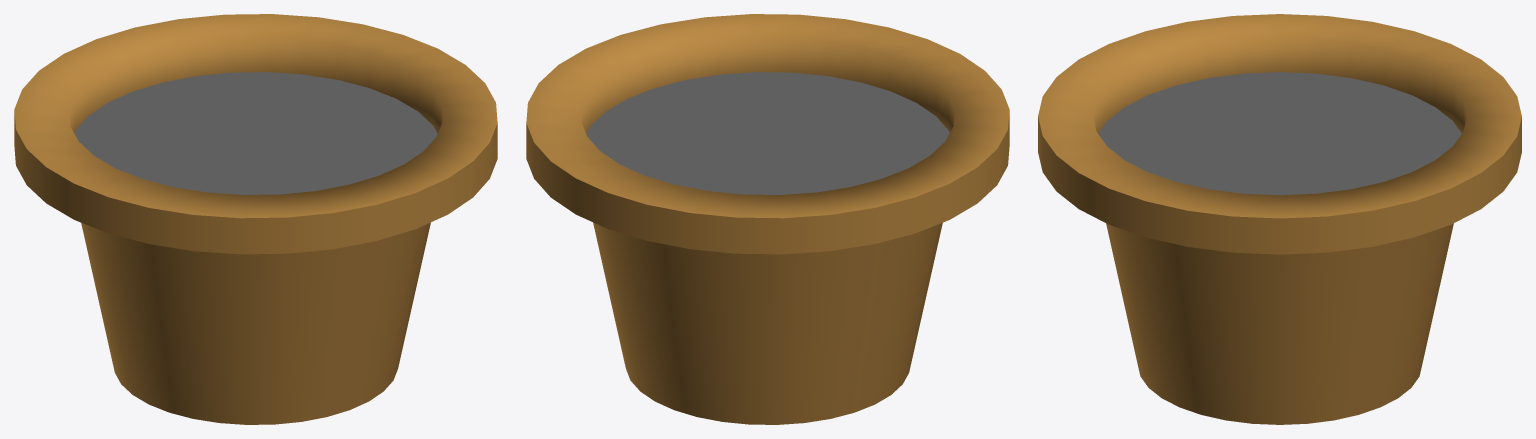
Rendered from Mplants1.fbx.
The picture shows the model from 3 angles, left to right: view 1: azimuth 30°, elevation 25°; view 2: azimuth 150°, elevation 25°; view 3: azimuth 270°, elevation 25°; orthographic projection.
Visible parts, largest first — view 1: Mplants1; view 2: Mplants1; view 3: Mplants1.
Part boxes in pixels (box(x1,y1,x2,y2)): Mplants1: box(14, 14, 497, 424); Mplants1: box(526, 14, 1009, 424); Mplants1: box(1038, 14, 1521, 424).
Bounding box in the file's own units: 0.6966 × 0.6966 × 0.3949.
